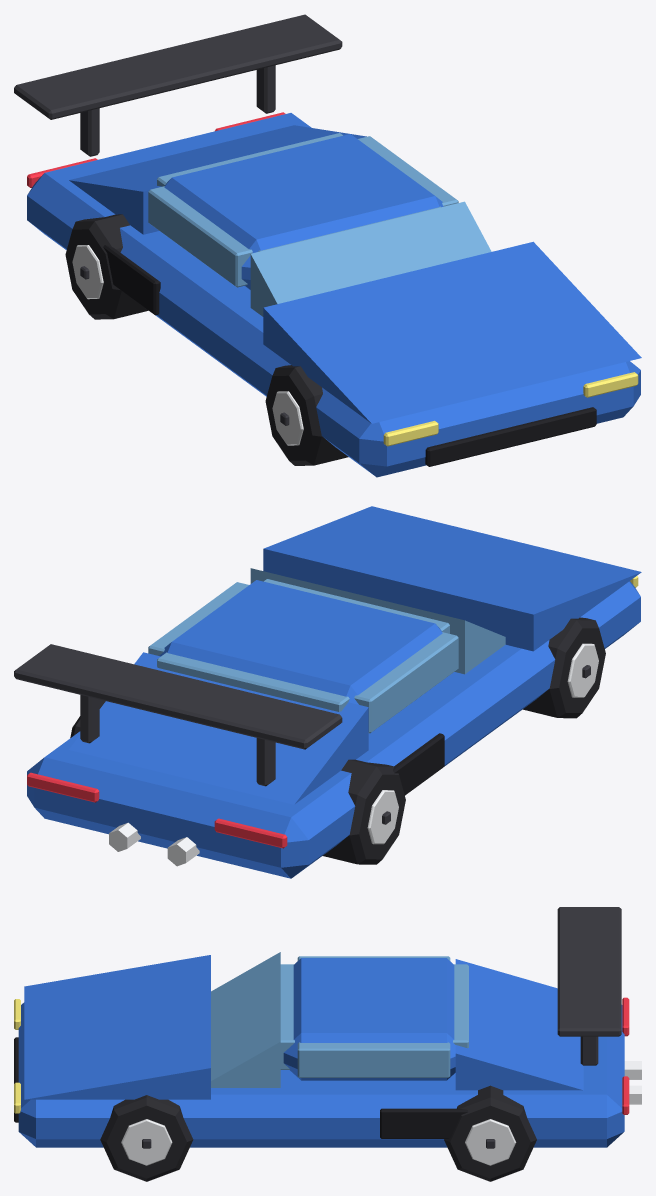
File: BlueSupercar.fbx
The picture shows the model from 3 angles, top to bottom: view 1: azimuth 30°, elevation 25°; view 2: azimuth 150°, elevation 25°; view 3: azimuth 270°, elevation 25°; orthographic projection. The views are drawn at different scales.
Visible parts, largest first — view 1: BlueSupercar, BlueSupercar_WheelBR, BlueSupercar_WheelFR; view 2: BlueSupercar, BlueSupercar_WheelBR, BlueSupercar_WheelFR; view 3: BlueSupercar, BlueSupercar_WheelBL, BlueSupercar_WheelFL.
Part boxes in pixels (left/top/right/bottom): BlueSupercar: left=14, top=14, right=641, bottom=477; BlueSupercar_WheelBR: left=65, top=214, right=148, bottom=319; BlueSupercar_WheelFR: left=265, top=365, right=348, bottom=465; BlueSupercar: left=14, top=506, right=641, bottom=878; BlueSupercar_WheelBR: left=323, top=759, right=405, bottom=864; BlueSupercar_WheelFR: left=523, top=617, right=605, bottom=718; BlueSupercar: left=14, top=907, right=641, bottom=1147; BlueSupercar_WheelBL: left=444, top=1085, right=536, bottom=1181; BlueSupercar_WheelFL: left=100, top=1095, right=193, bottom=1181.
Size of the model in its own units: 5.22 by 2.94 by 10.78.
1 material, 1 textured.
